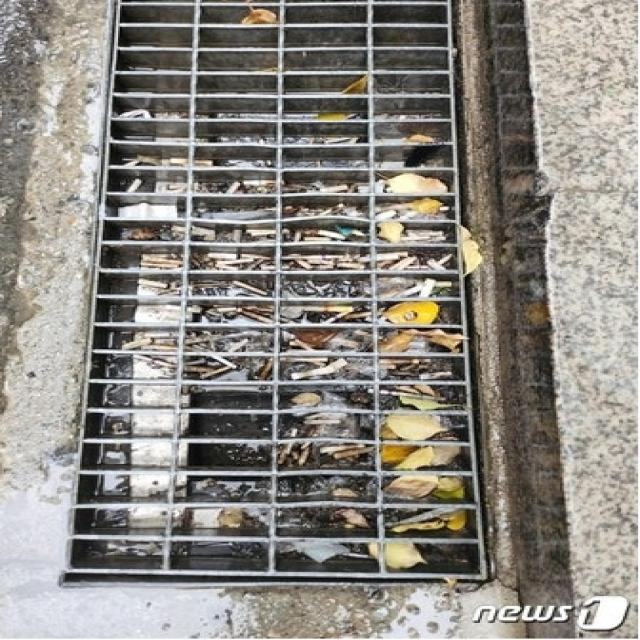drain_area: (113, 6, 451, 124)
drain_full: (61, 5, 486, 581)
